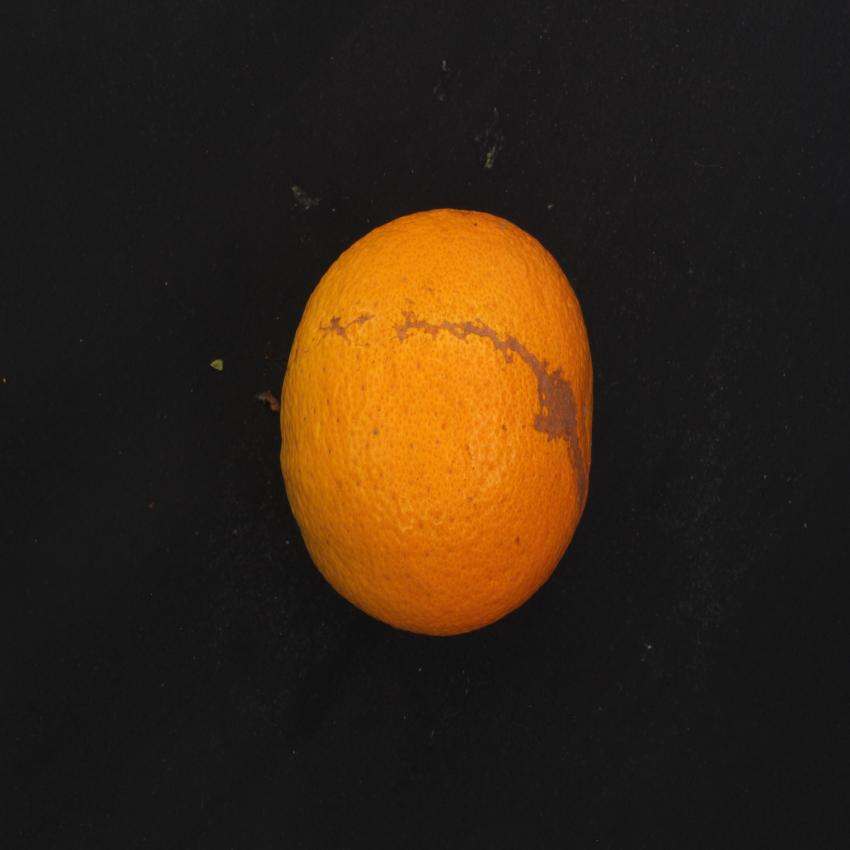Buen estado: (246, 193, 607, 656)
